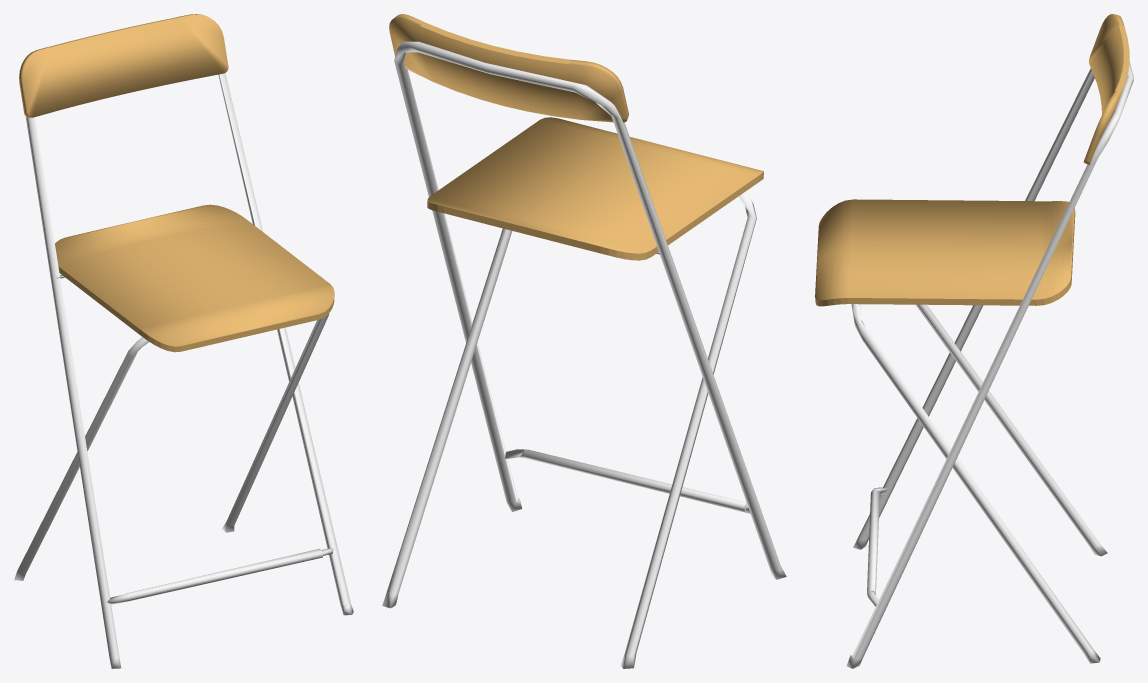
Rendered from lowpolychairnew.obj.
3 renders of one model, left to right at view 1: azimuth 30°, elevation 25°; view 2: azimuth 150°, elevation 25°; view 3: azimuth 270°, elevation 25°, orthographic. The views are drawn at different scales.
Visible parts, largest first — view 1: Object01_Object01Mesh, Loft03_Loft03Mesh; view 2: Object01_Object01Mesh, Loft03_Loft03Mesh; view 3: Object01_Object01Mesh, Loft03_Loft03Mesh.
Boxes of the visible parts, left/top/right/bottom form: Object01_Object01Mesh: left=19, top=14, right=334, bottom=352; Loft03_Loft03Mesh: left=14, top=73, right=353, bottom=668; Object01_Object01Mesh: left=389, top=14, right=763, bottom=260; Loft03_Loft03Mesh: left=382, top=41, right=786, bottom=668; Object01_Object01Mesh: left=815, top=14, right=1129, bottom=306; Loft03_Loft03Mesh: left=846, top=62, right=1133, bottom=668.
Size of the model in its own units: 0.479 by 0.9878 by 0.5164.
